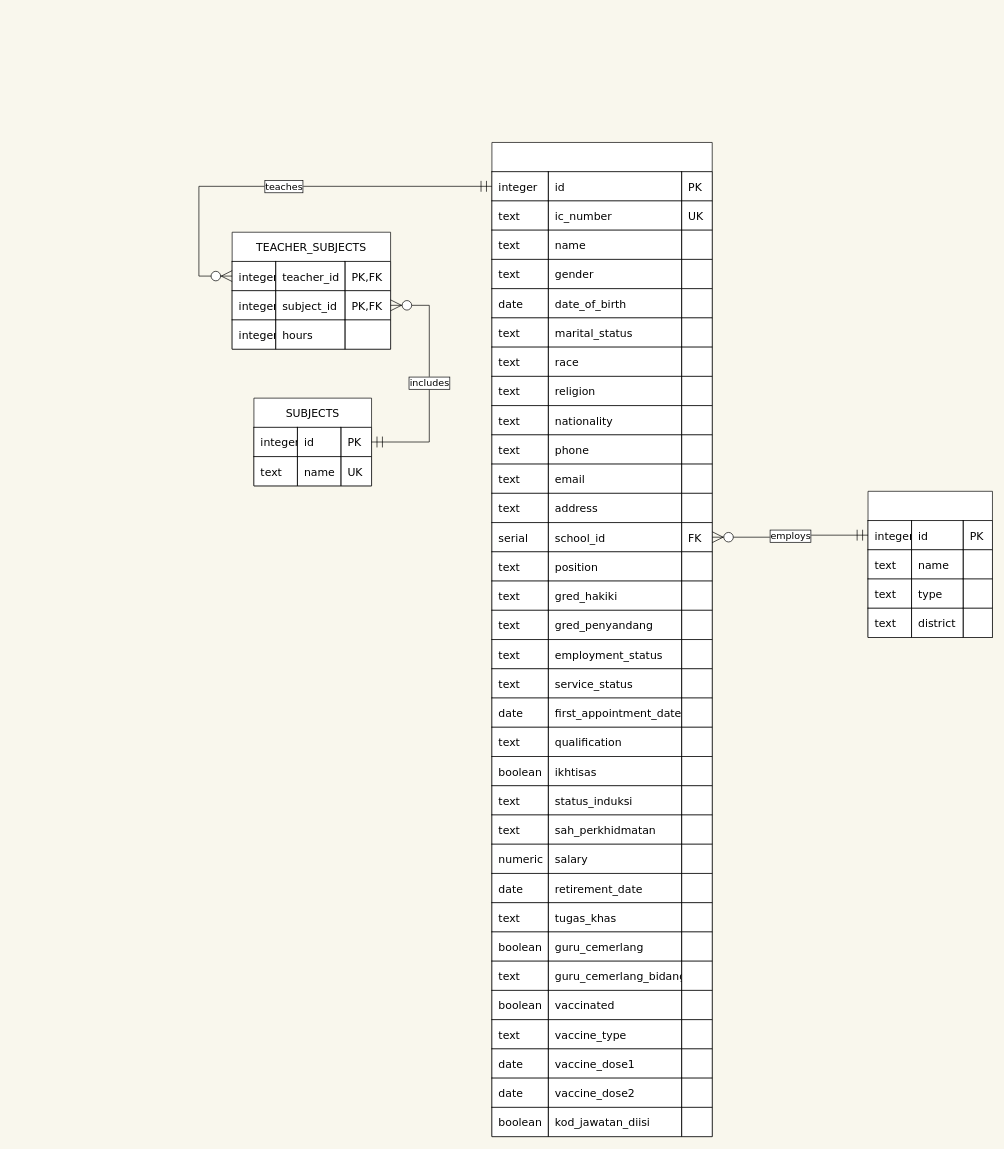
Image size: 1004x1149. Some labels were removed from this diagram. Each missing label, with the box of its shape:
SCHOOLS: (867, 491, 992, 638)
TEACHERS: (491, 142, 712, 1137)
